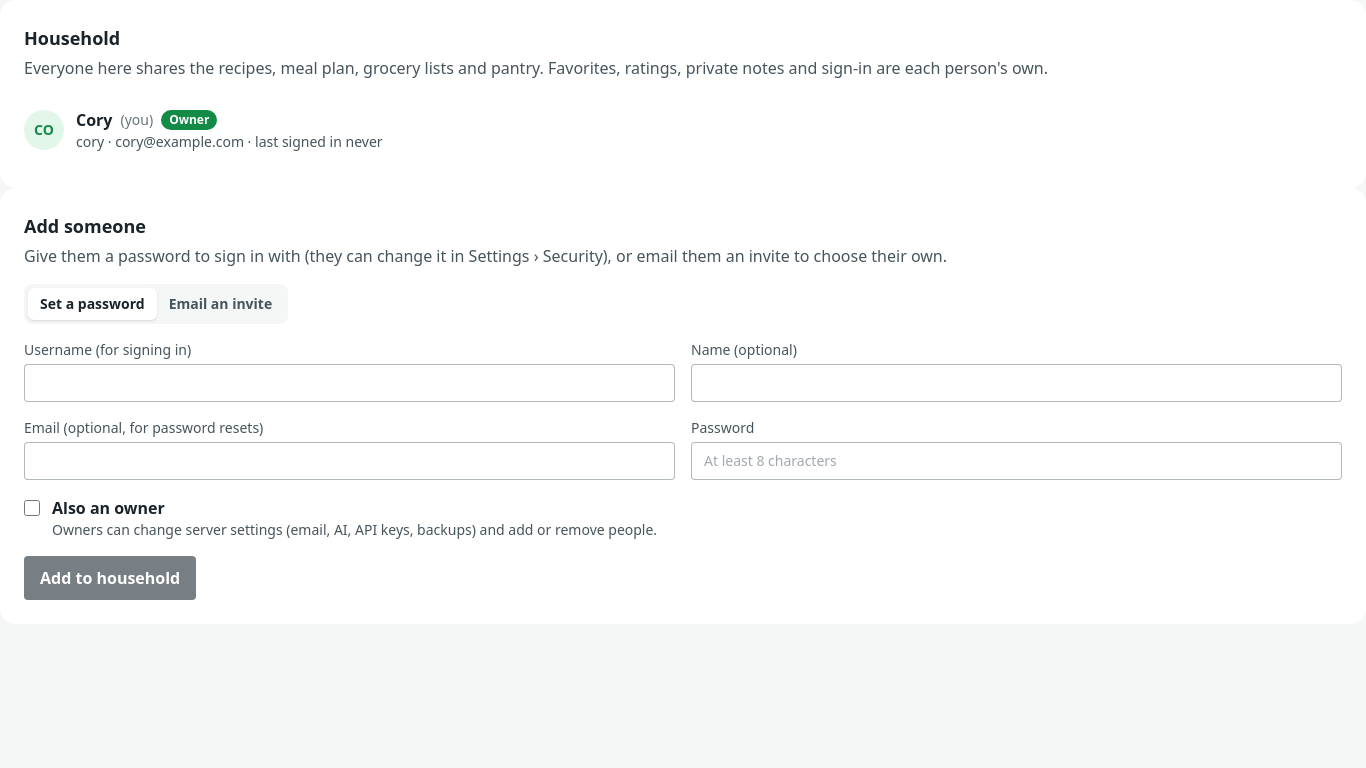
Scenario: Household: Email an invite needs email set up › can be picked, but warns and won't send
Click the radio button labelled "Email an invite" at [220, 304], box [157,288,284,320]
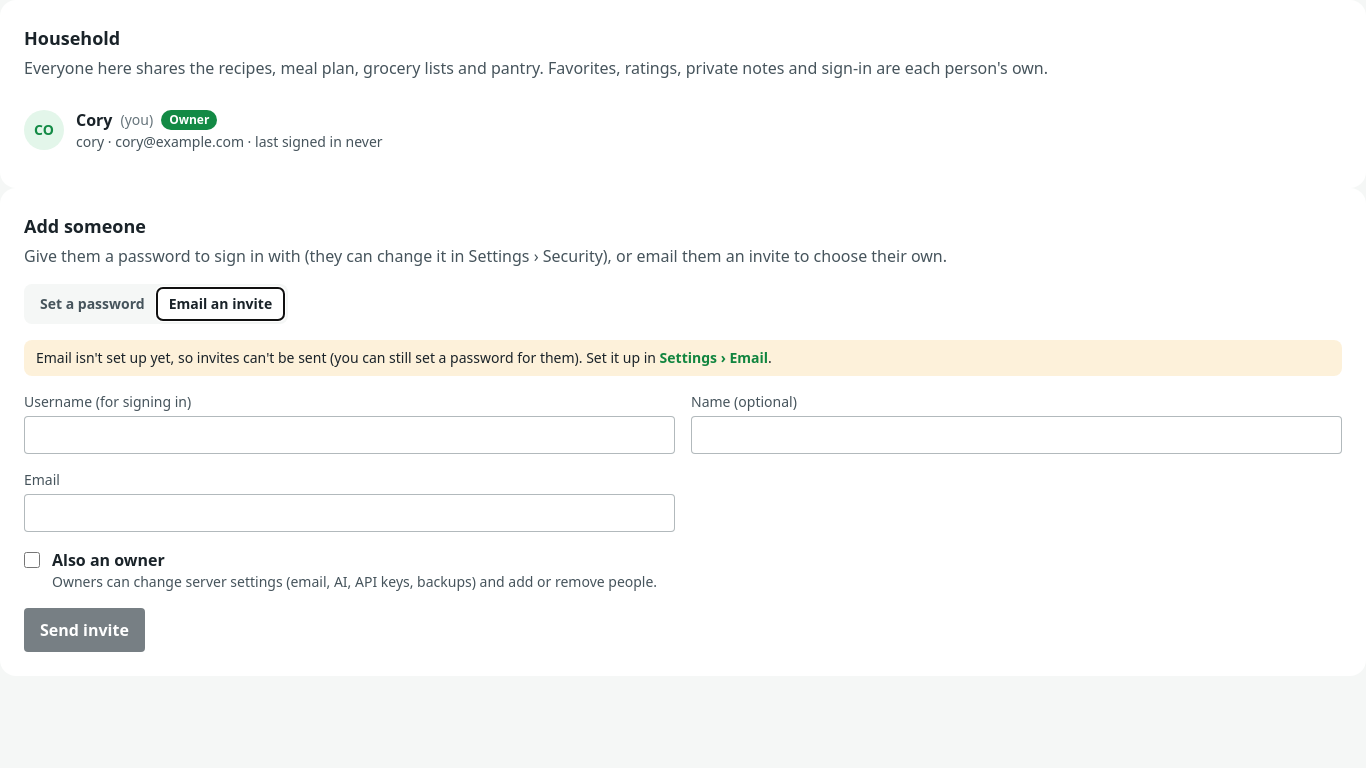
Expected: the text "Email isn't set up yet" is shown, [36,348,197,367]
Type "sam" into the field labelled "Username" at [350, 435], box [24,416,675,454]
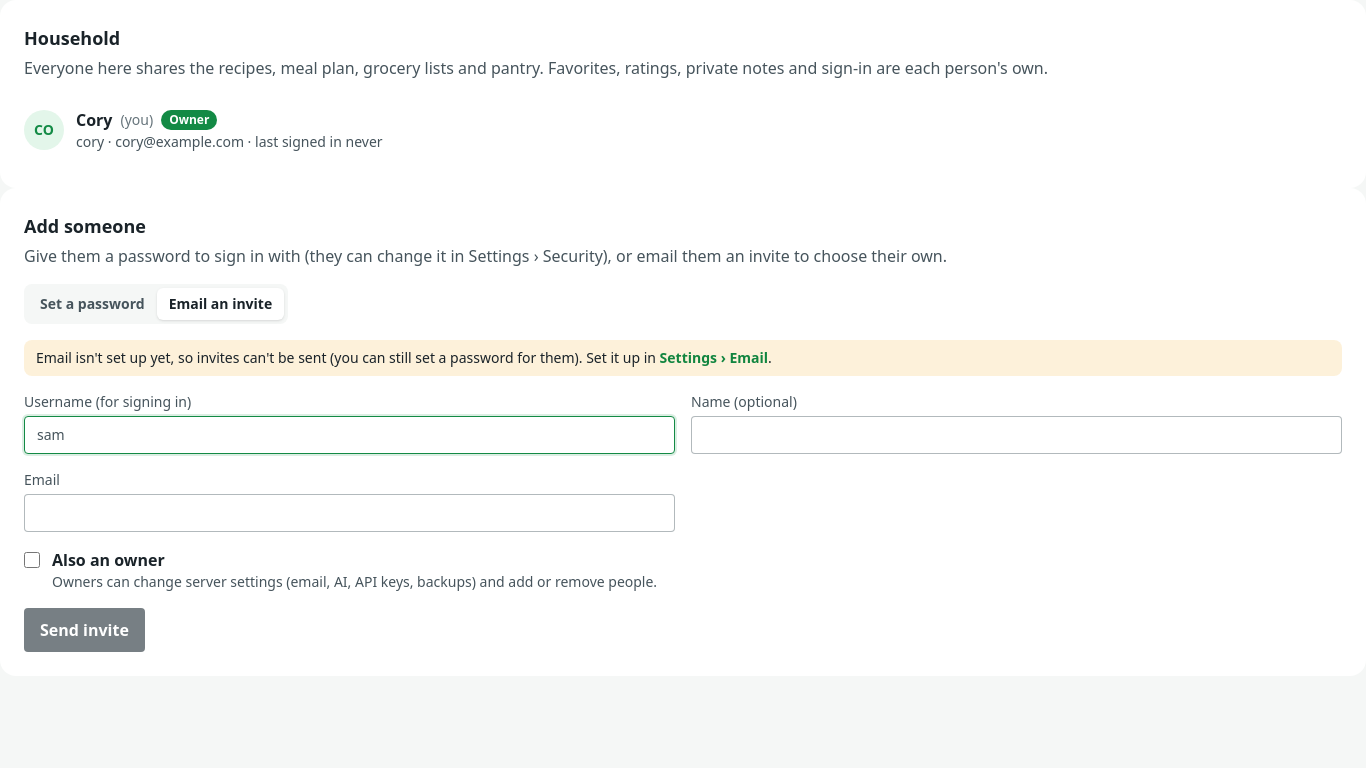
Type "sam@example.com" into the field labelled "Email" at [350, 513], box [24,494,675,532]
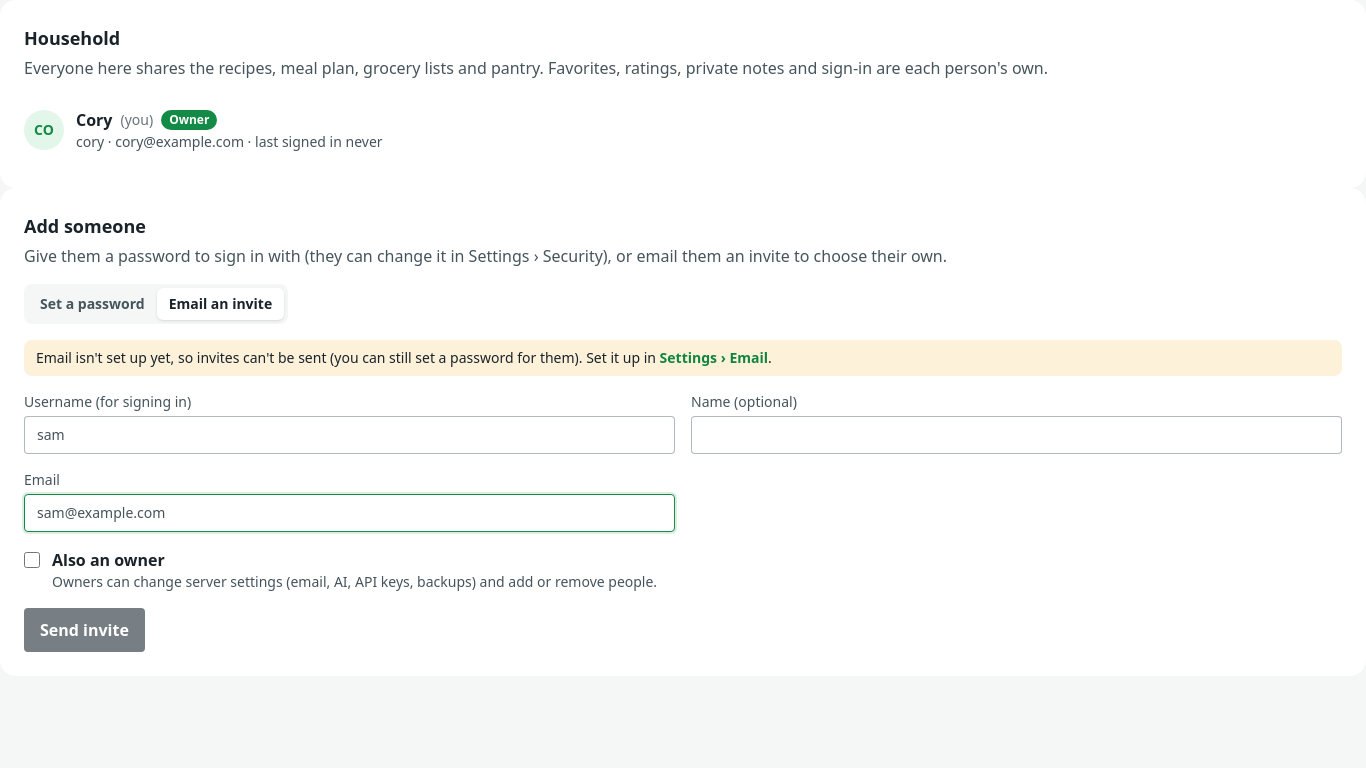
Expected: the button "Send invite" is disabled, [24,608,145,652]
Note: Set a password still works
Click the radio button labelled "Set a password" at [92, 304], box [28,288,157,320]
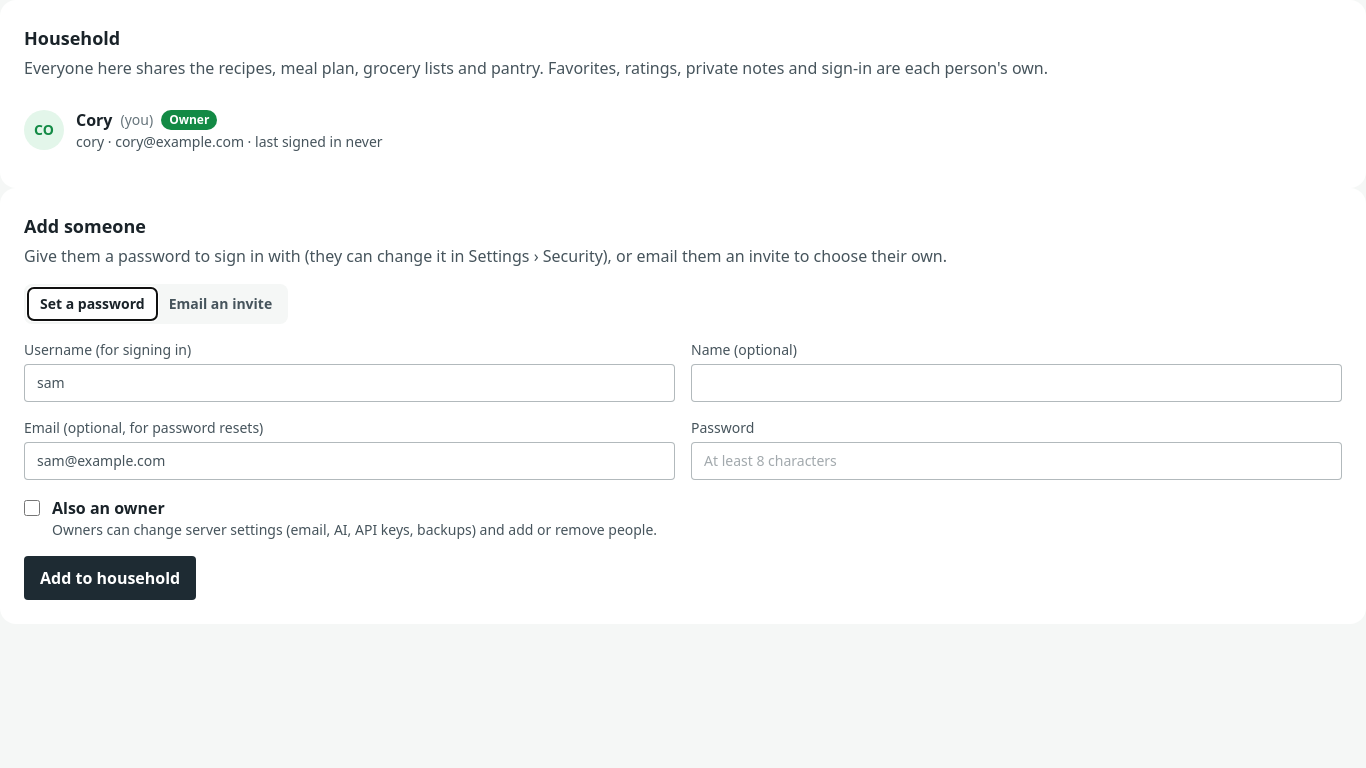
Expected: the text "Email isn't set up yet" is gone
